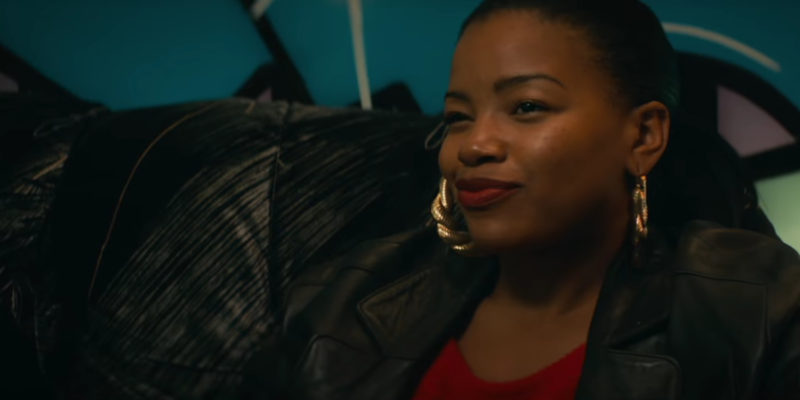bare: (436, 129, 607, 238)
